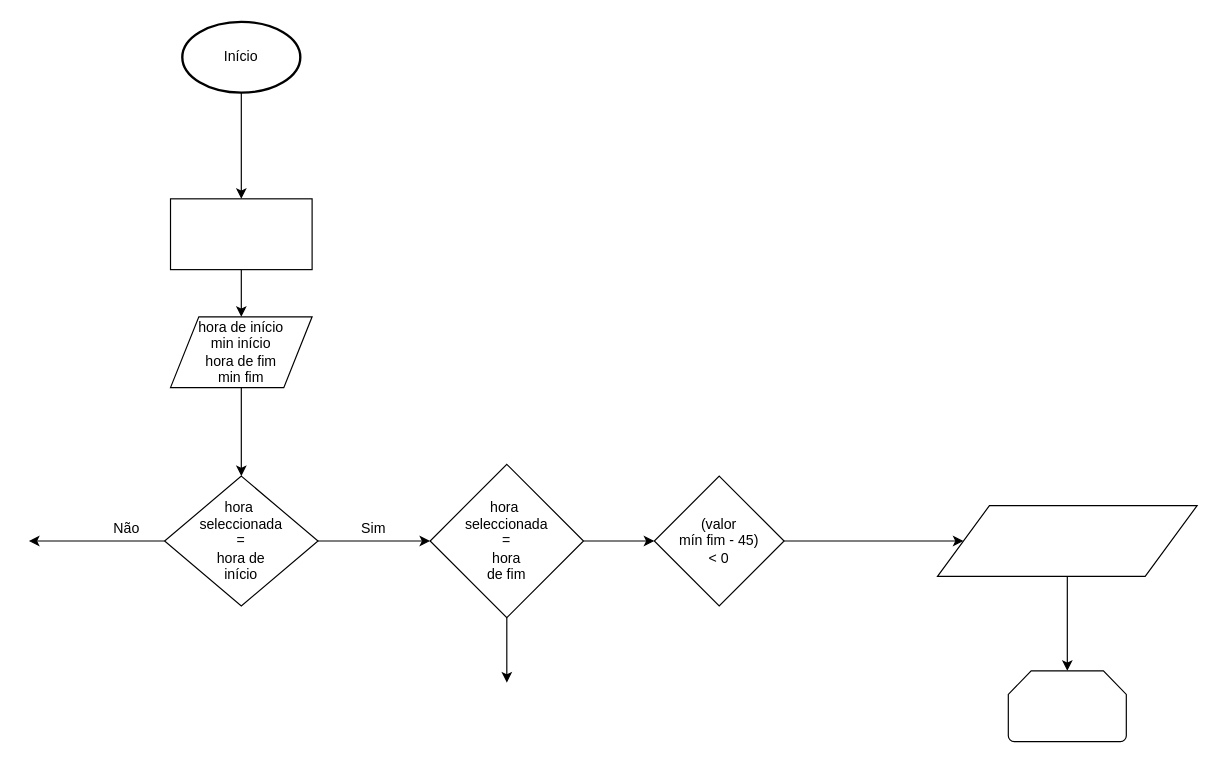
The diagram is 1218 pixels wide and 762 high, and some of its shapes have lost their labels. Each missing label, with the centre of its shape:
seleccionar hora: point (240, 234)
time = 45 - min fim min fim = 60 - time: point (1066, 540)
